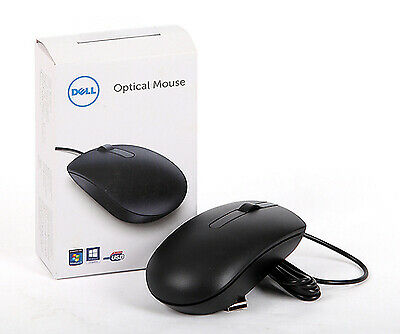dell-mouse-ms116: (138, 198, 369, 320)
